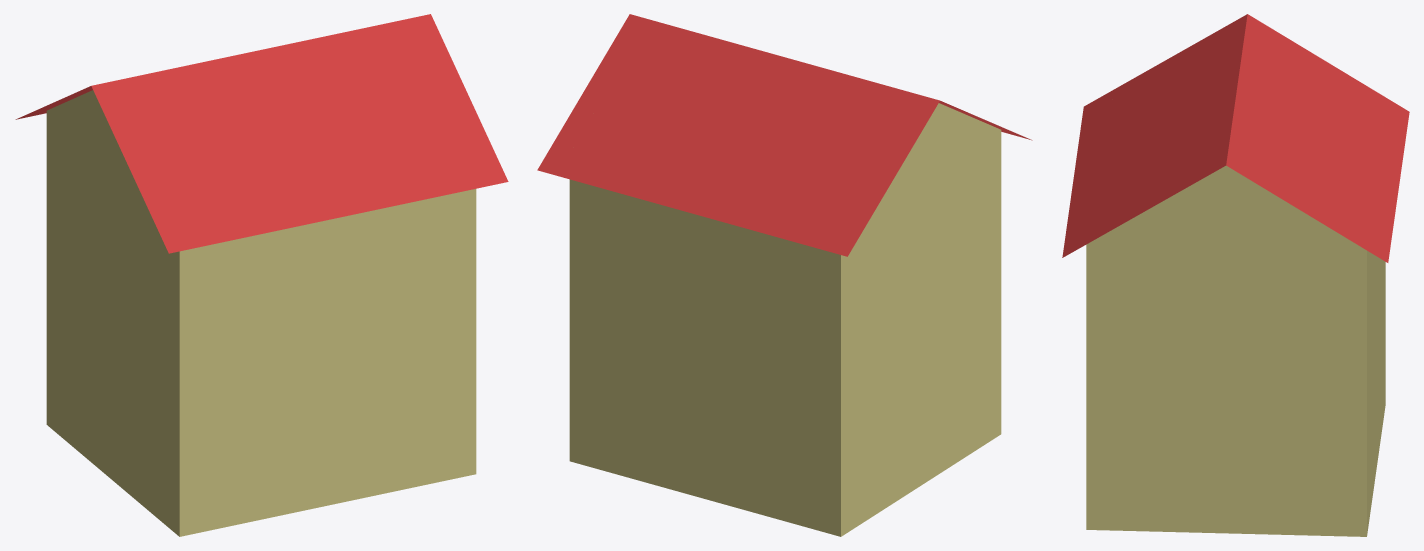
The picture shows the model from 3 angles, left to right: view 1: azimuth 30°, elevation 25°; view 2: azimuth 150°, elevation 25°; view 3: azimuth 270°, elevation 25°; orthographic projection. The views are drawn at different scales.
Size of the model in its own units: 12.54 by 11.52 by 13.81.
